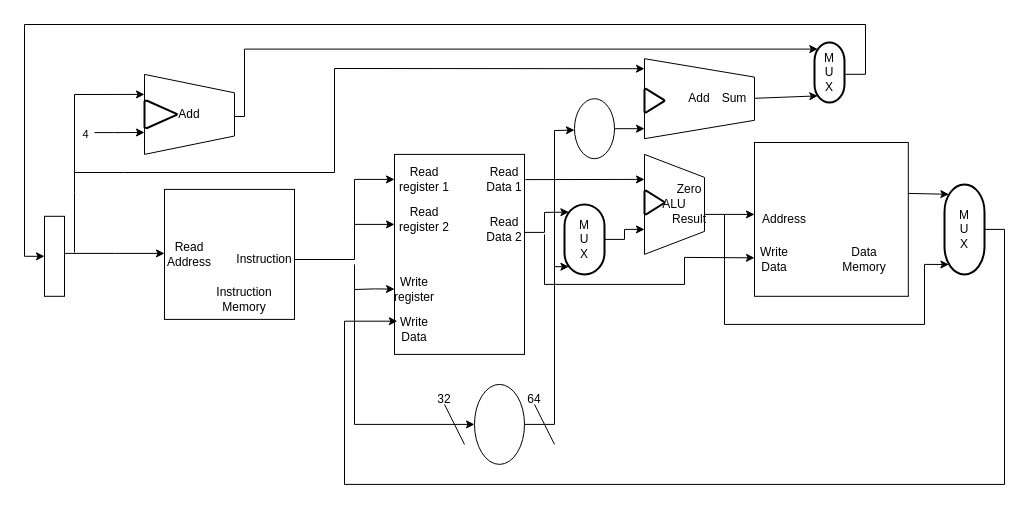
Some shapes in this 1030 by 510 pixel diagram are drawn without their labels. The box of each missing label's shape, as (x1, y1, x2, y2) in pixels:
Imm Gen: (474, 383, 524, 464)
PC: (44, 215, 64, 296)
Shift left 1: (574, 98, 614, 159)
